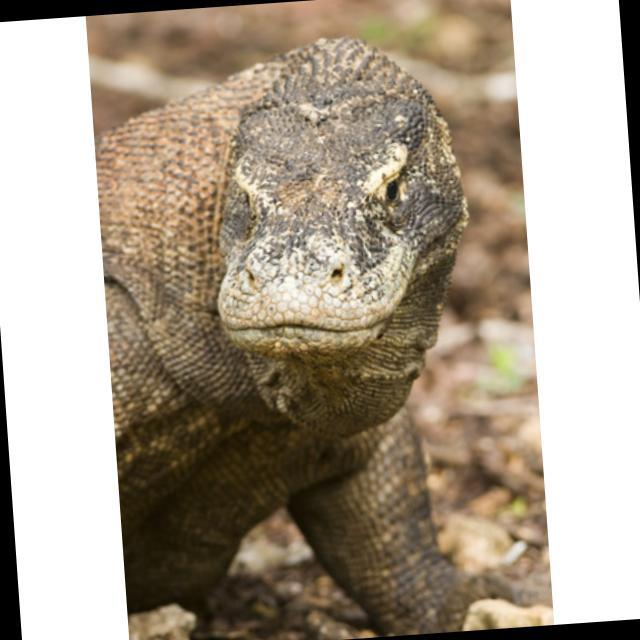KomodoDragon: (93, 21, 549, 640)
